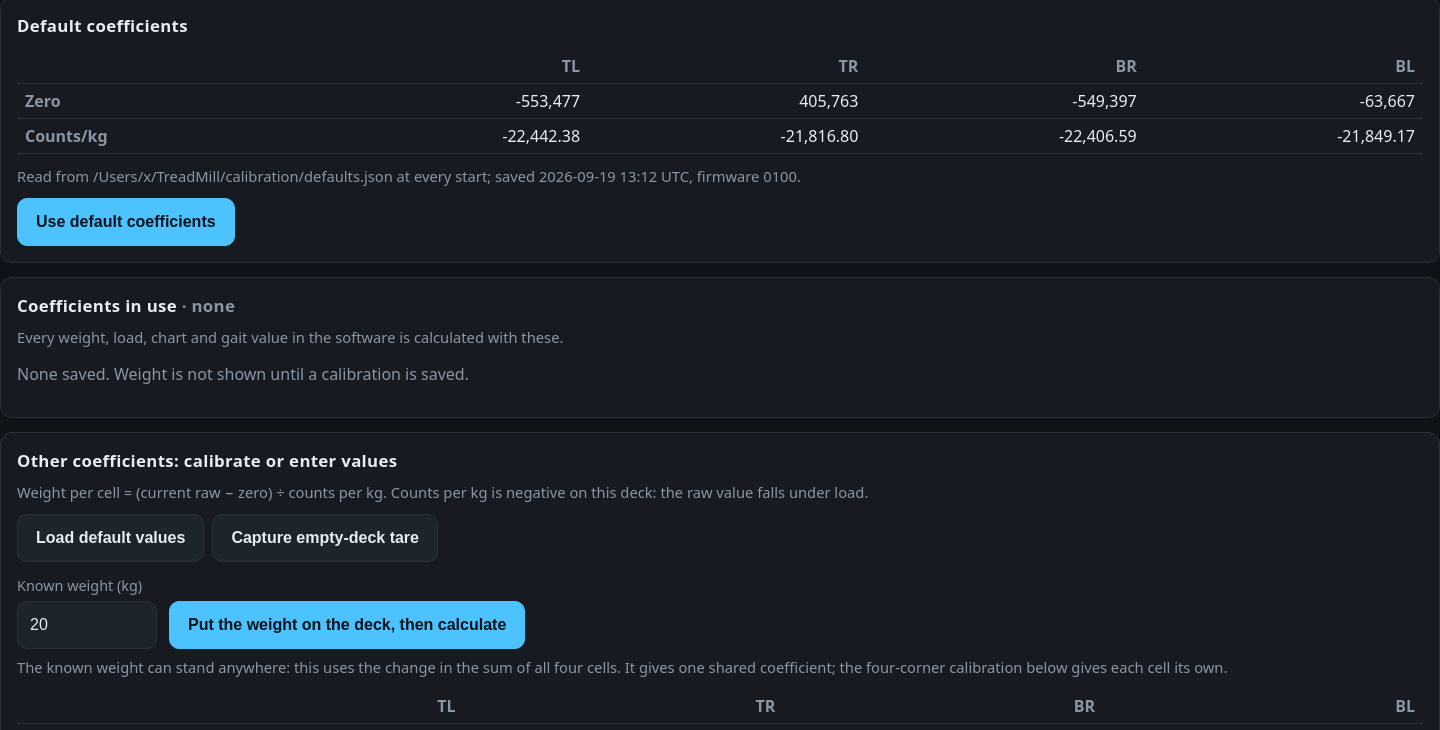
it: loads the default values into the form and previews the weight they give
Click the button "Load default values" at point(111, 538), box [17,514,204,562]
(page scrolled)
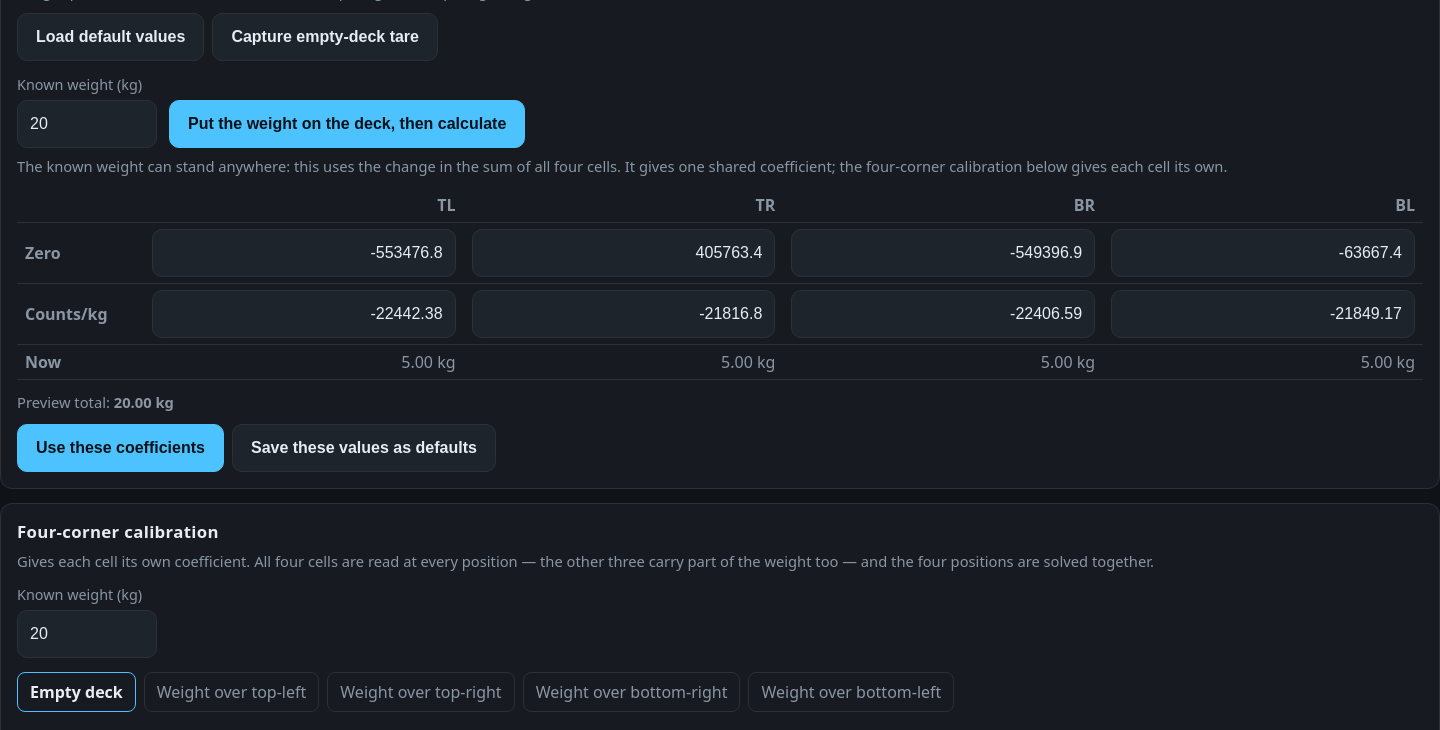
Result: the field named "TL counts per kg" holds "-22442.38" at [152,290,456,338]
Result: the text "20.00 kg" is shown at [114,392,174,412]
